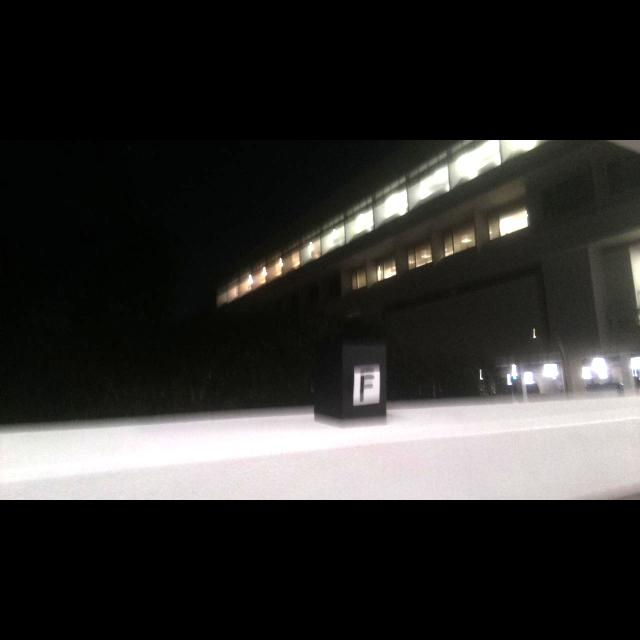F: (360, 374, 375, 402)
